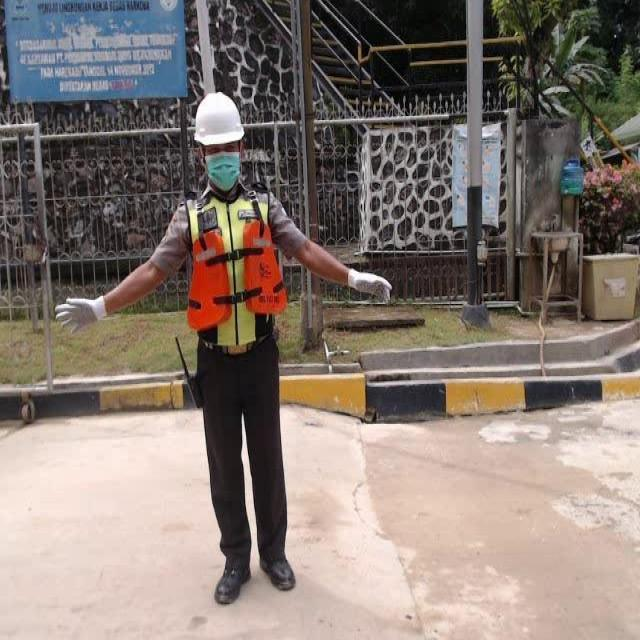boots: (215, 561, 251, 603), (259, 554, 296, 590)
gloves: (54, 296, 106, 334), (347, 268, 391, 304)
hard-hat: (192, 90, 244, 146)
person: (54, 90, 393, 605)
ppe-suit: (54, 90, 393, 605)
vest: (146, 180, 286, 340)
